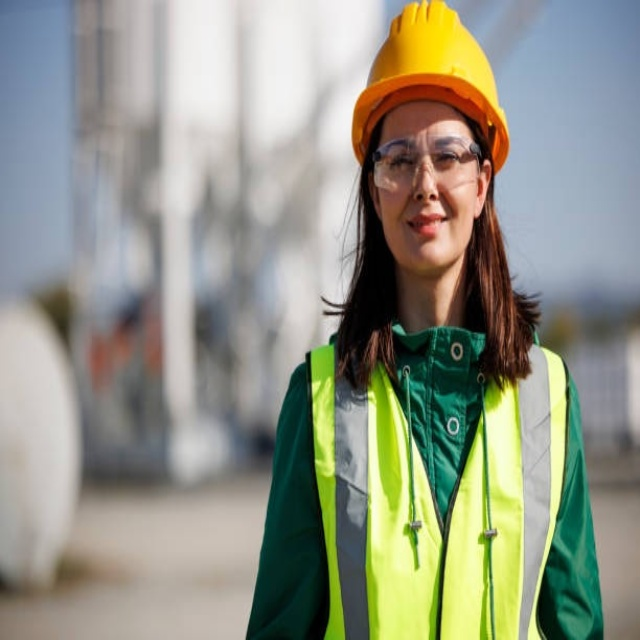Gafas: (370, 135, 485, 196)
Sin_mascara: (399, 199, 455, 256)
